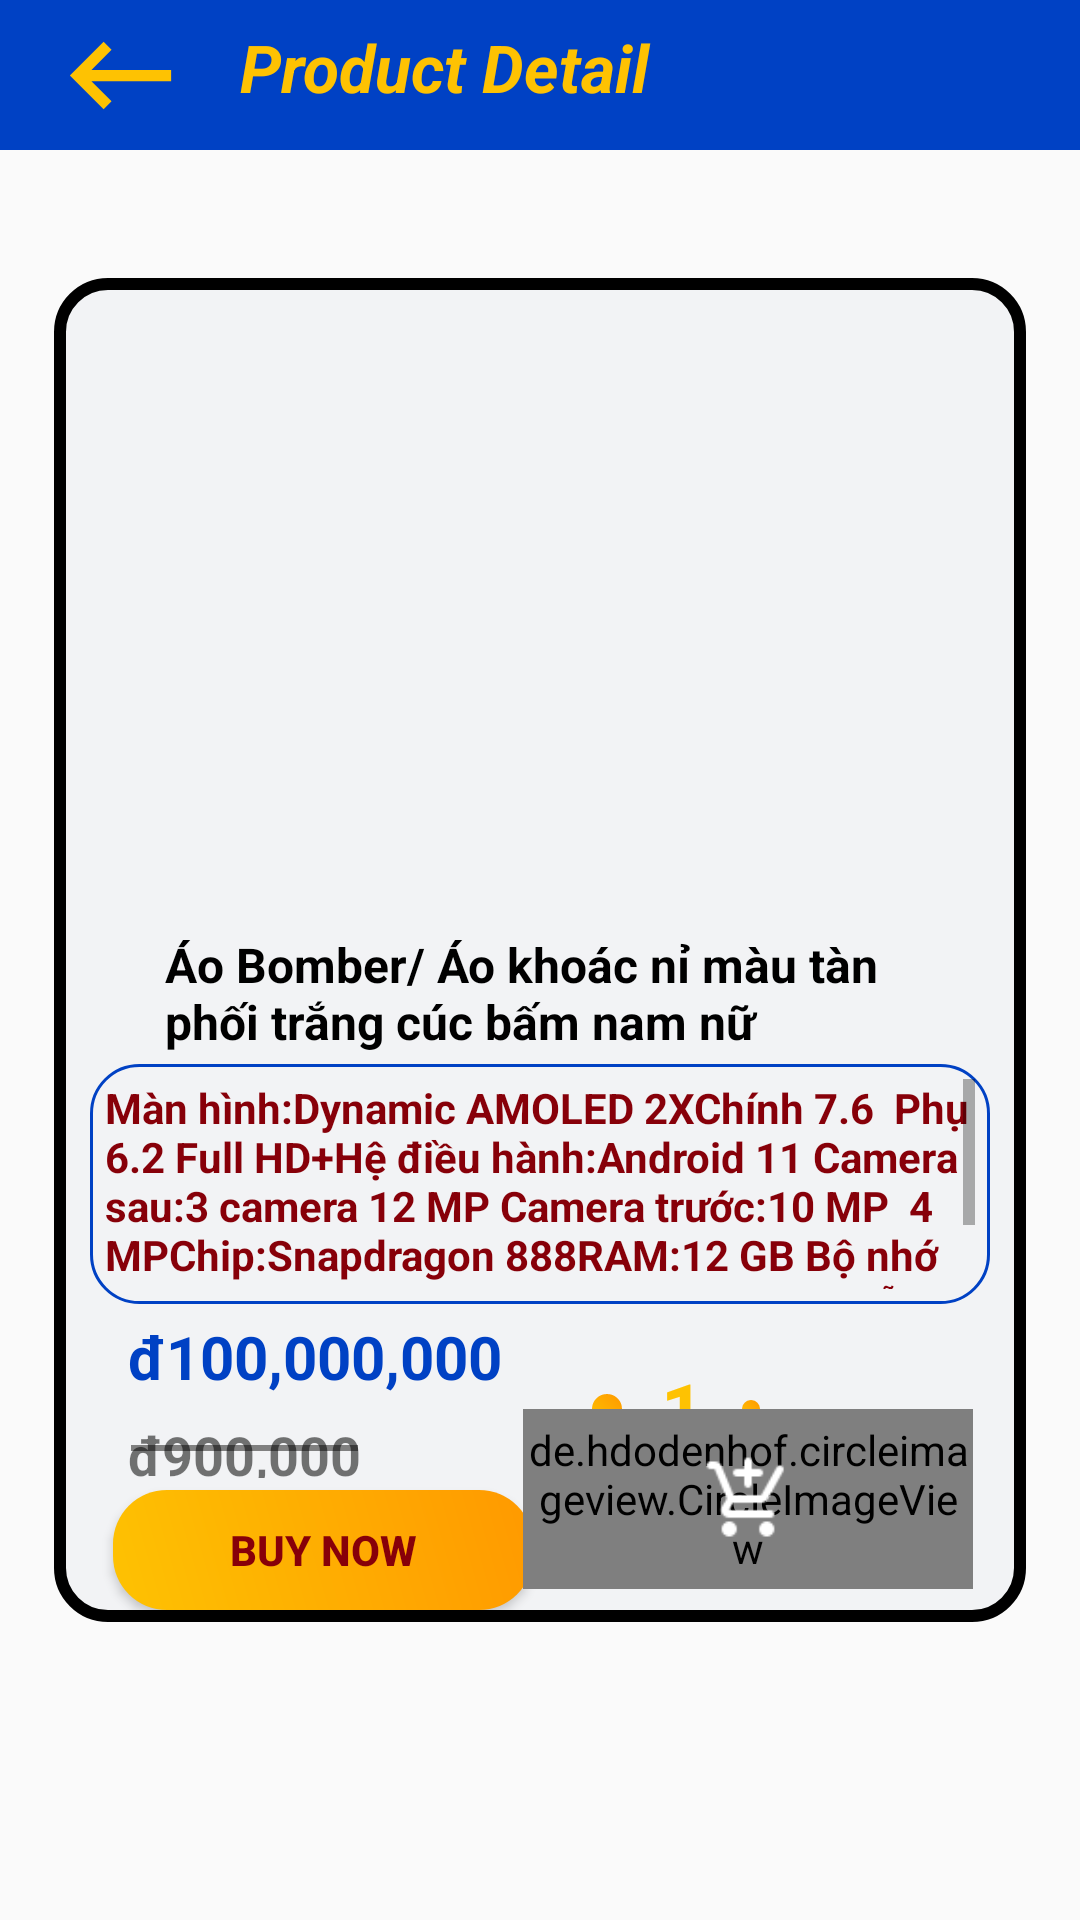

Named icons in this screenshot (1080w x 1920h) and their bounding boxes, box=[x1, y1, x2, y2]:
keyboard backspace: box=[70, 42, 172, 109]
tmaddcart: box=[706, 1454, 793, 1544]
